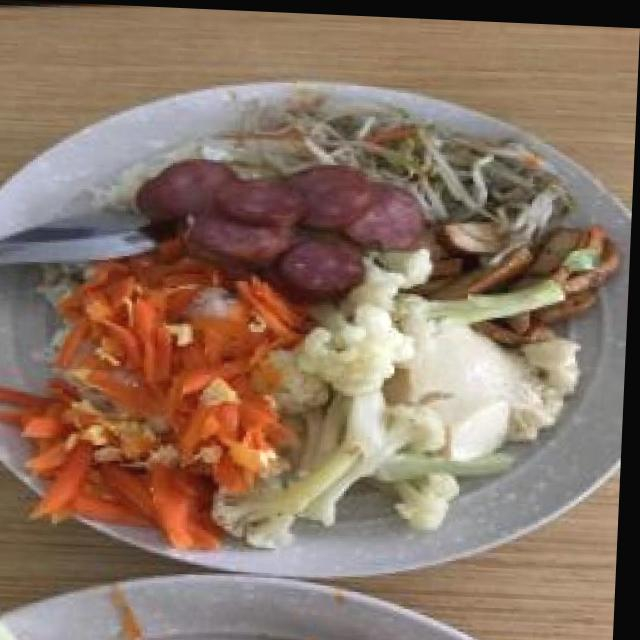carrot_eggs: (22, 248, 301, 526)
chinese_sausage: (135, 155, 428, 295)
mung_bean_sprouts: (252, 86, 567, 235)
